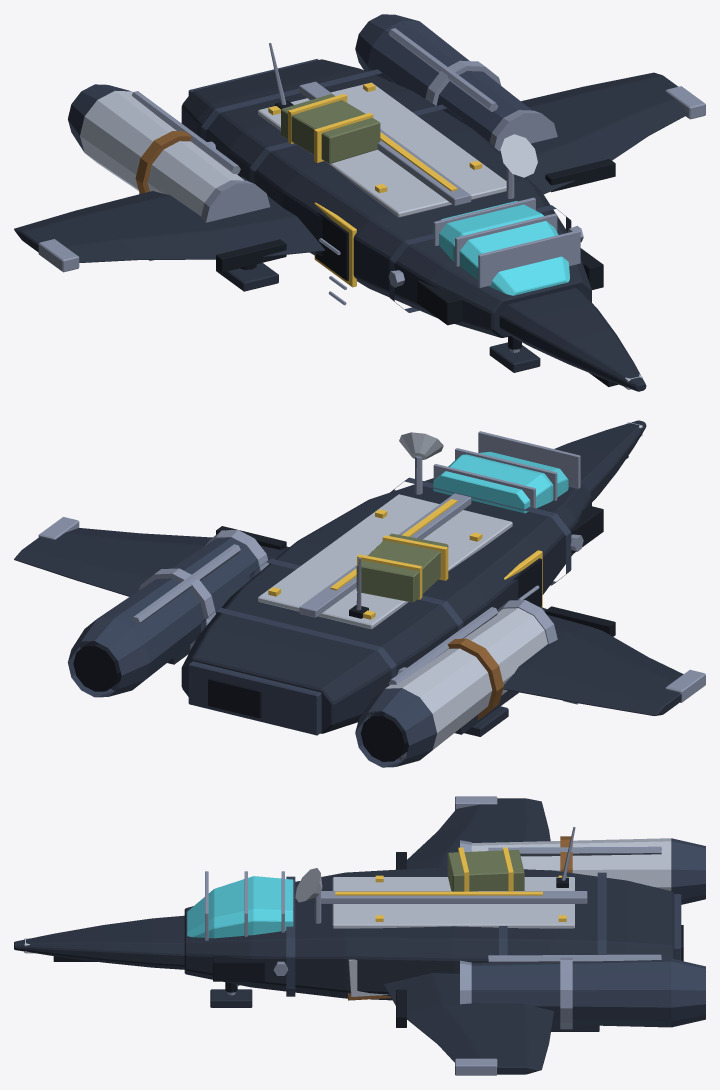
Rendered from runabout.glb.
3 renders of one model, top to bottom at view 1: azimuth 30°, elevation 25°; view 2: azimuth 150°, elevation 25°; view 3: azimuth 270°, elevation 25°, orthographic. The views are drawn at different scales.
Visible parts, largest first — view 1: hull-core, wing-port, wing-starboard, deck-plate, nacelle-port, hull-nose, nacelle-starboard, canopy, deck-crate, canopy-frame-0, nacelle-intake-port, spine-rail (+25 smaller); view 2: hull-core, wing-port, deck-plate, nacelle-port, wing-starboard, nacelle-starboard, canopy, tail-plate, deck-crate, nacelle-bell-port, nacelle-bell-starboard, hull-nose (+24 smaller); view 3: hull-core, nacelle-starboard, wing-starboard, deck-plate, hull-nose, wing-port, canopy, nacelle-port, spine-rail, deck-crate, nacelle-bell-starboard, nacelle-bell-port (+12 smaller).
Part boxes in pixels (x1,y1,x2,y2): hull-core: [181, 59, 591, 337]; wing-port: [14, 176, 325, 262]; wing-starboard: [499, 72, 688, 194]; deck-plate: [258, 82, 506, 217]; nacelle-port: [80, 90, 244, 216]; hull-nose: [499, 288, 646, 391]; nacelle-starboard: [367, 20, 531, 142]; canopy: [433, 201, 569, 295]; deck-crate: [281, 94, 380, 163]; canopy-frame-0: [478, 230, 580, 287]; nacelle-intake-port: [201, 180, 270, 222]; spine-rail: [299, 81, 471, 205]; hull-core: [181, 478, 591, 733]; wing-port: [503, 605, 683, 715]; deck-plate: [258, 494, 512, 629]; nacelle-port: [367, 608, 547, 760]; wing-starboard: [14, 528, 289, 596]; nacelle-starboard: [80, 538, 259, 690]; canopy: [433, 451, 568, 513]; tail-plate: [188, 661, 321, 735]; deck-crate: [356, 533, 448, 602]; nacelle-bell-port: [355, 688, 436, 767]; nacelle-bell-starboard: [67, 618, 149, 697]; hull-nose: [554, 420, 646, 501]; hull-core: [184, 867, 673, 1000]; nacelle-starboard: [471, 958, 671, 1027]; wing-starboard: [383, 973, 554, 1074]; deck-plate: [332, 877, 574, 928]; hull-nose: [14, 915, 184, 969]; wing-port: [407, 798, 550, 868]; canopy: [187, 876, 293, 938]; nacelle-port: [471, 838, 671, 890]; spine-rail: [321, 891, 587, 903]; deck-crate: [447, 849, 524, 891]; nacelle-bell-starboard: [671, 958, 705, 1027]; nacelle-bell-port: [671, 838, 705, 904].
Size of the model in its own units: 12.9 by 3.5 by 14.
